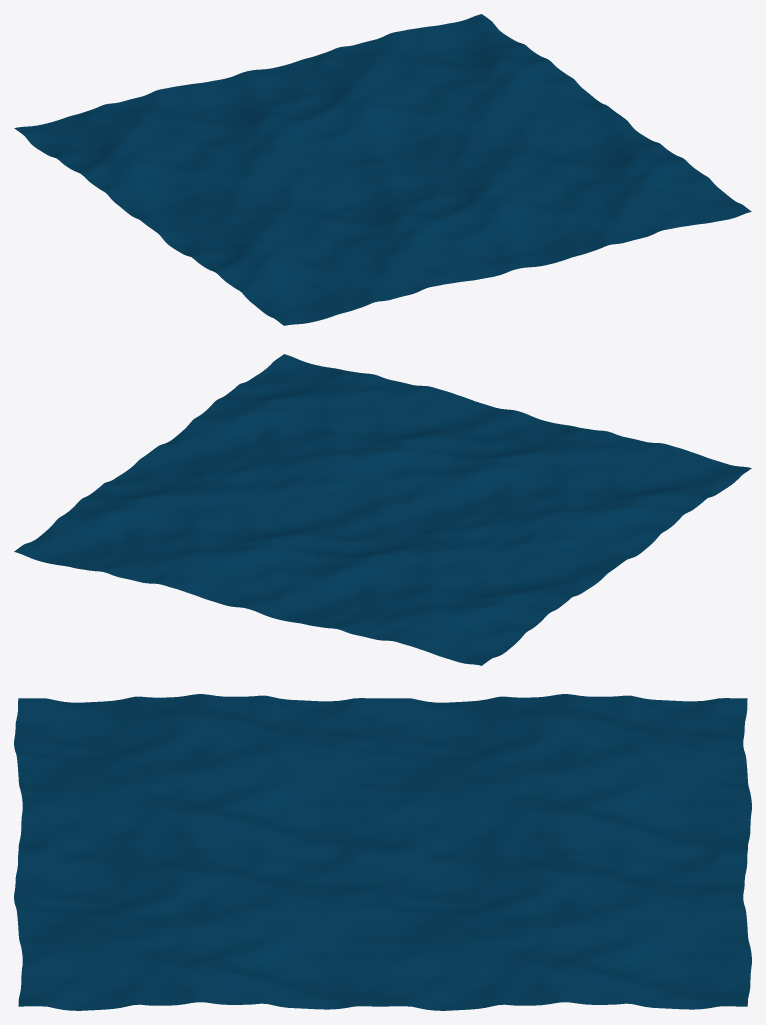
File: water new idea.fbx
3 renders of one model, top to bottom at view 1: azimuth 30°, elevation 25°; view 2: azimuth 150°, elevation 25°; view 3: azimuth 270°, elevation 25°, orthographic. The views are drawn at different scales.
Parts seen in each view (by area): view 1: Plane; view 2: Plane; view 3: Plane.
Boxes of the visible parts, x1=… form: Plane: x1=14, y1=14, x2=751, y2=325; Plane: x1=14, y1=354, x2=751, y2=665; Plane: x1=14, y1=694, x2=751, y2=1010.
Size of the model in its own units: 26754 by 629 by 26953.
